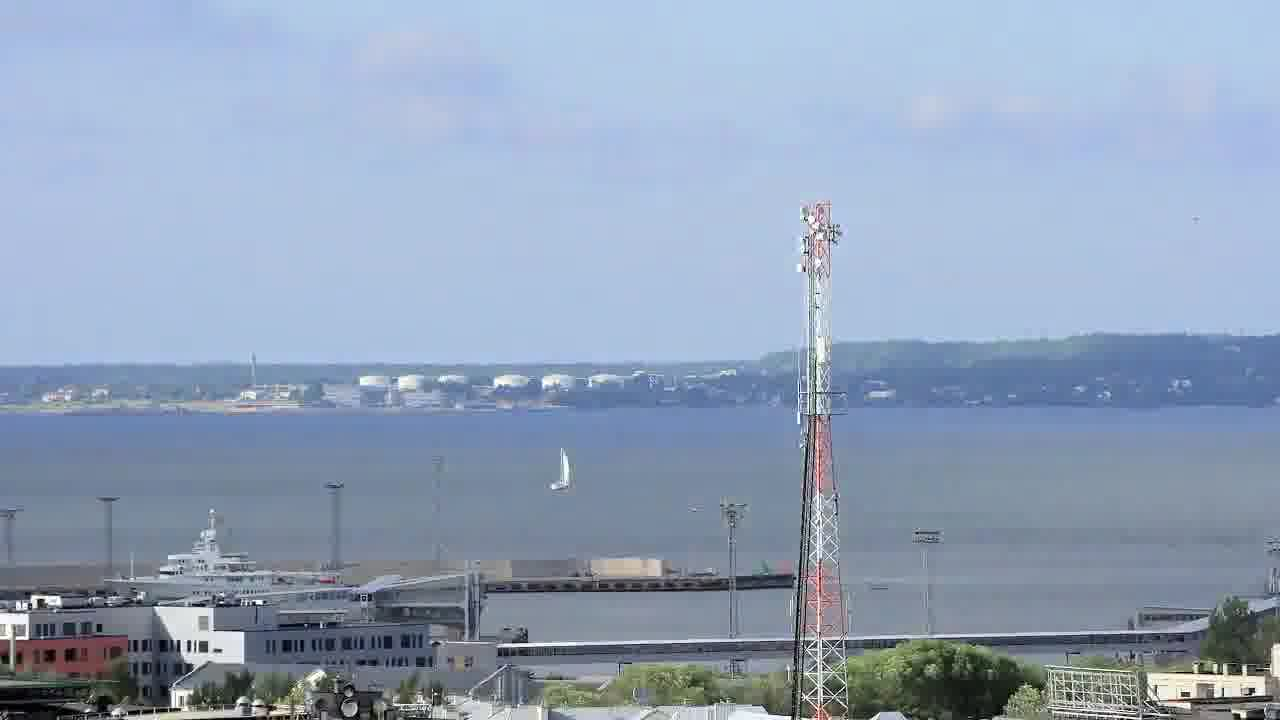type-2: (524, 430, 600, 512)
type-3: (84, 515, 355, 603)
